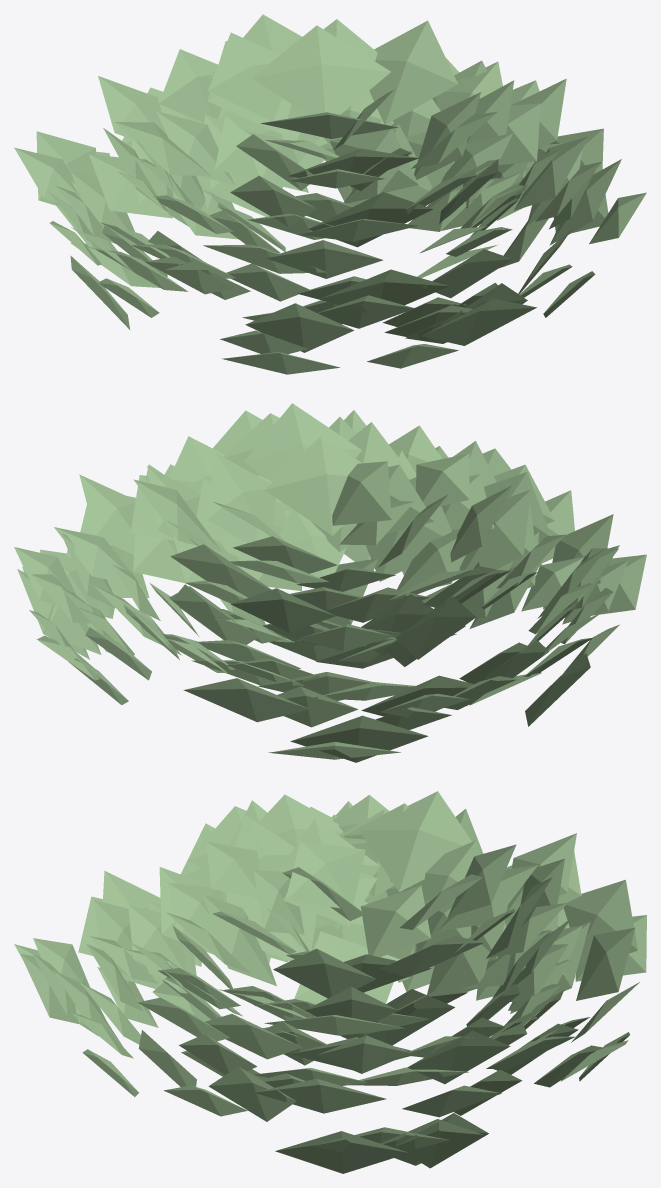
The model's file is island-shrub.glb.
3 views of the same model, one above another, from view 1: azimuth 30°, elevation 25°; view 2: azimuth 150°, elevation 25°; view 3: azimuth 270°, elevation 25° (orthographic). The views are drawn at different scales.
Parts seen in each view (by area): view 1: IslandShrub.002; view 2: IslandShrub.002; view 3: IslandShrub.002.
Part boxes in pixels (left/top/right/bottom): IslandShrub.002: left=14, top=14, right=646, bottom=374; IslandShrub.002: left=14, top=403, right=646, bottom=762; IslandShrub.002: left=14, top=791, right=646, bottom=1173.
Size of the model in its own units: 1.84 by 0.701 by 1.83.
